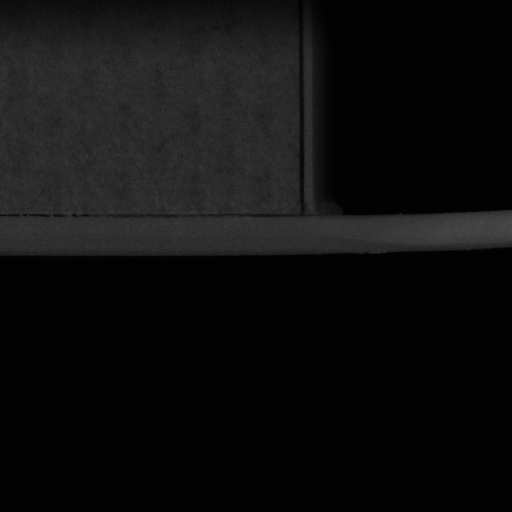changdai: (316, 209, 511, 259)
